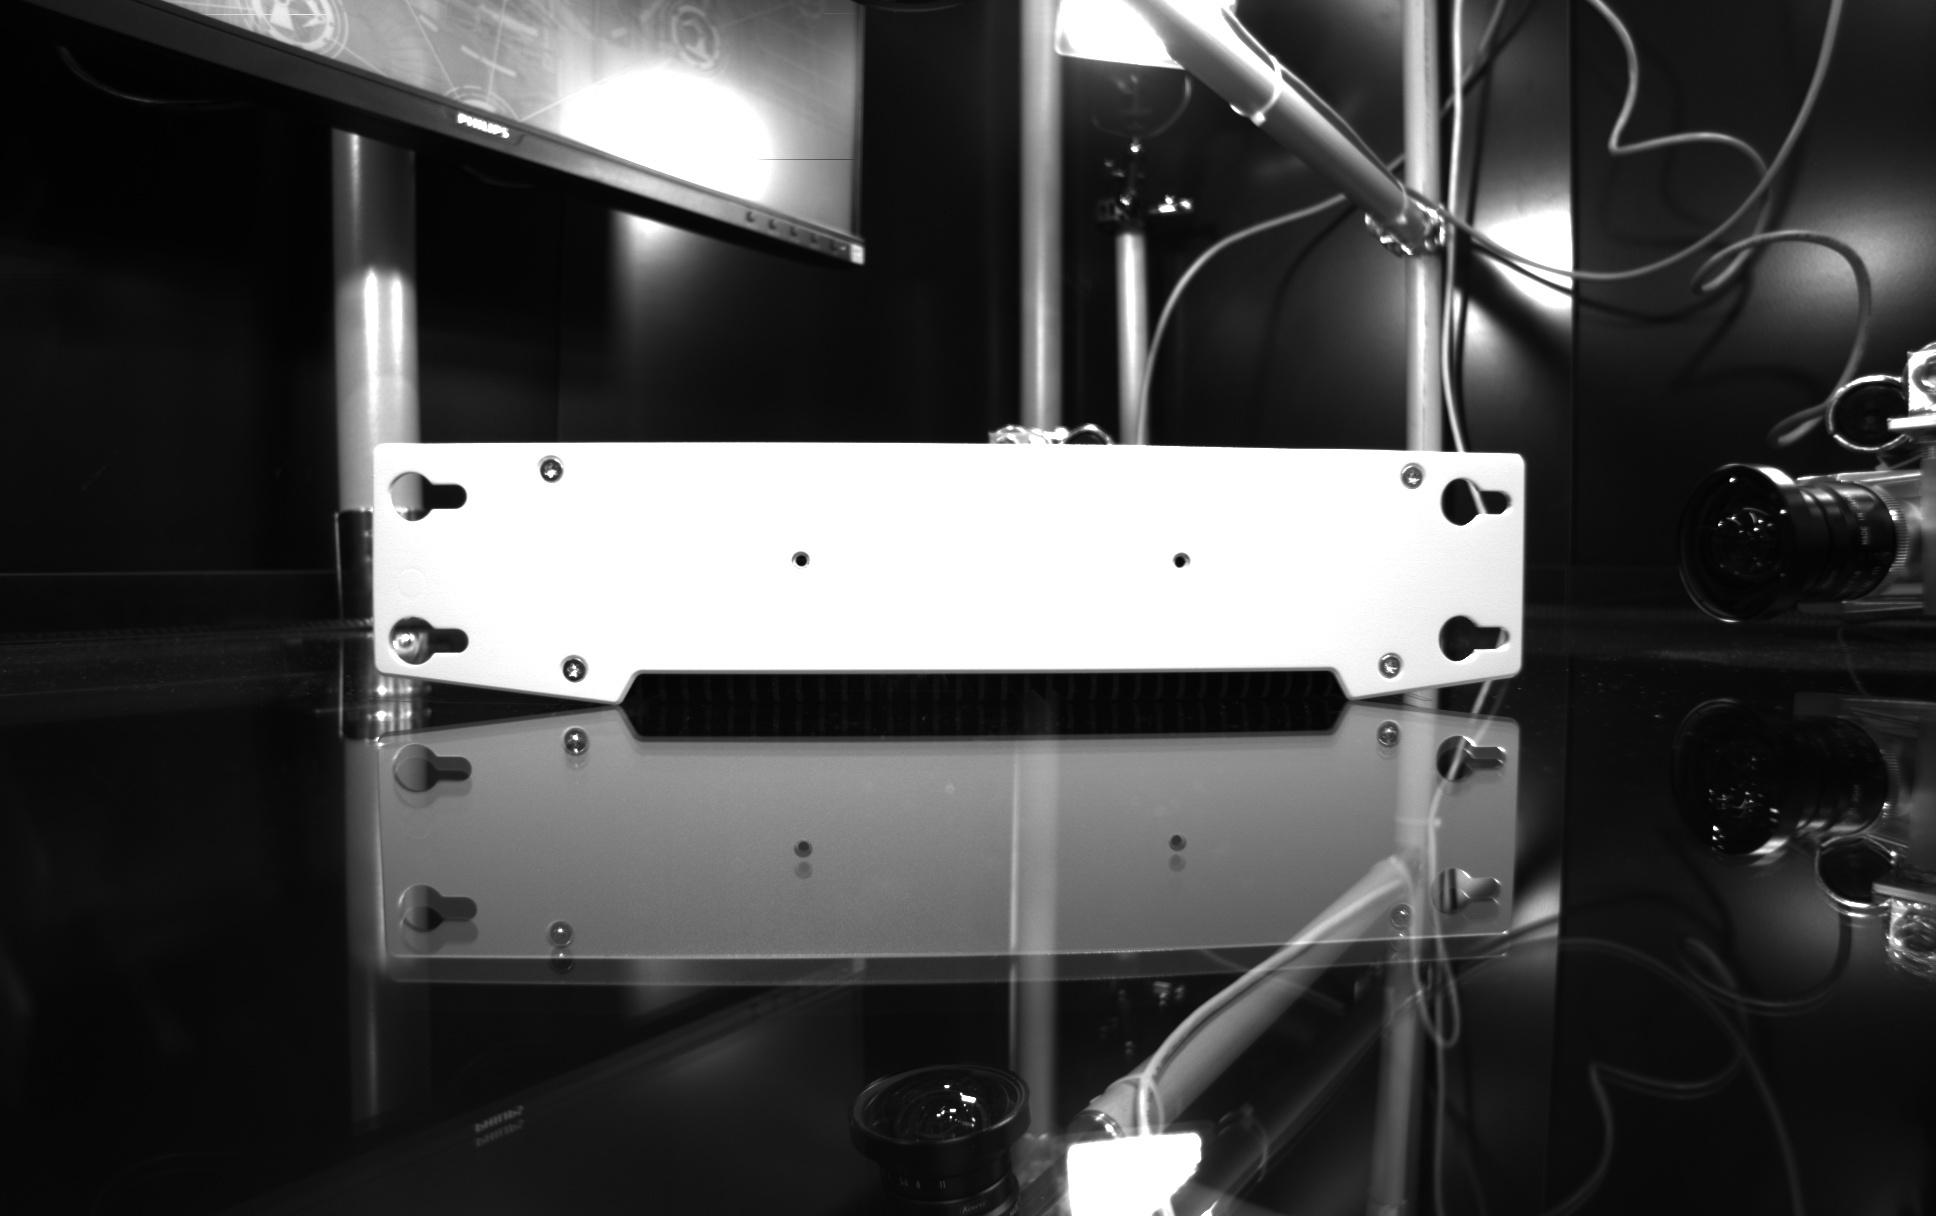CamBack: (335, 406, 1561, 698)
Schraube: (532, 450, 572, 490), (555, 650, 594, 691), (1374, 646, 1413, 686), (1392, 458, 1432, 497)
Schraube_gespiegelt: (535, 913, 581, 979), (553, 721, 595, 780), (1383, 897, 1425, 955), (1366, 717, 1411, 768)
